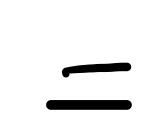eqv: (46, 63, 132, 110)
